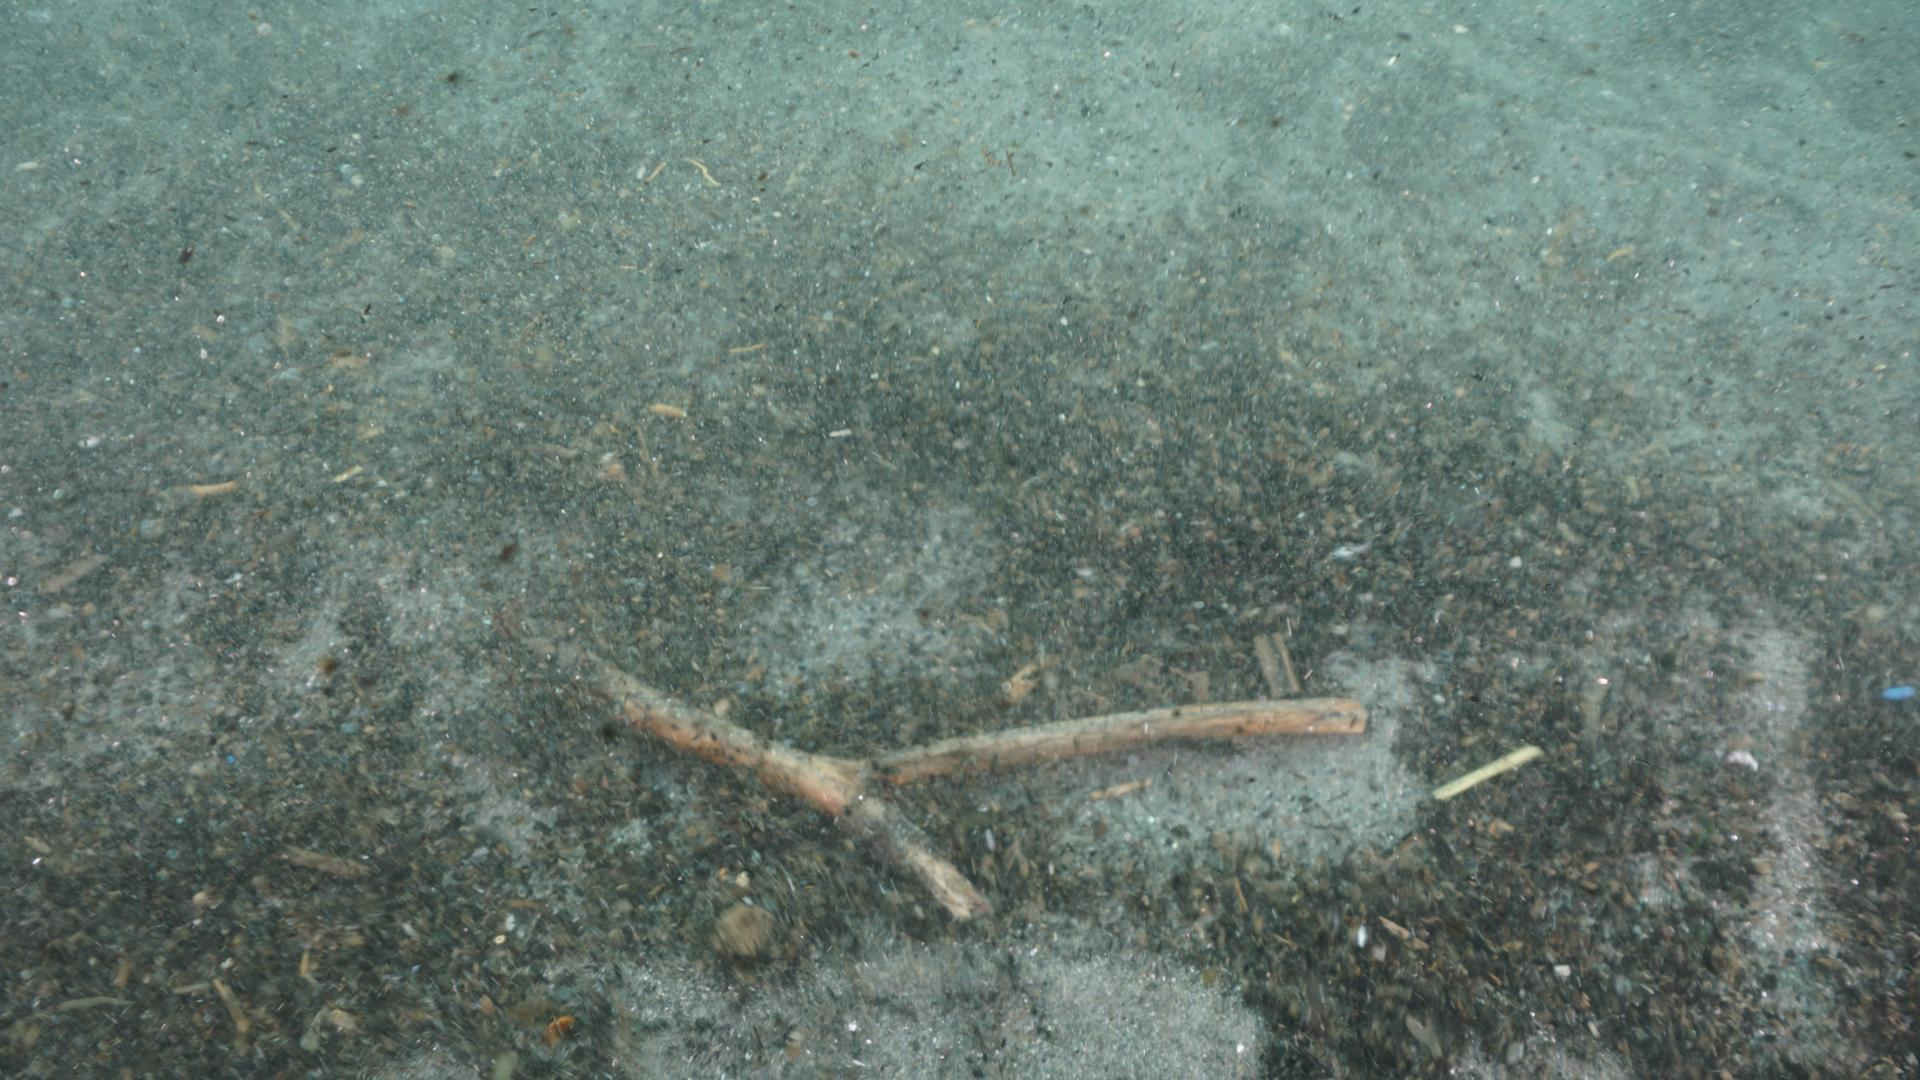wood: (582, 665, 1364, 923)
